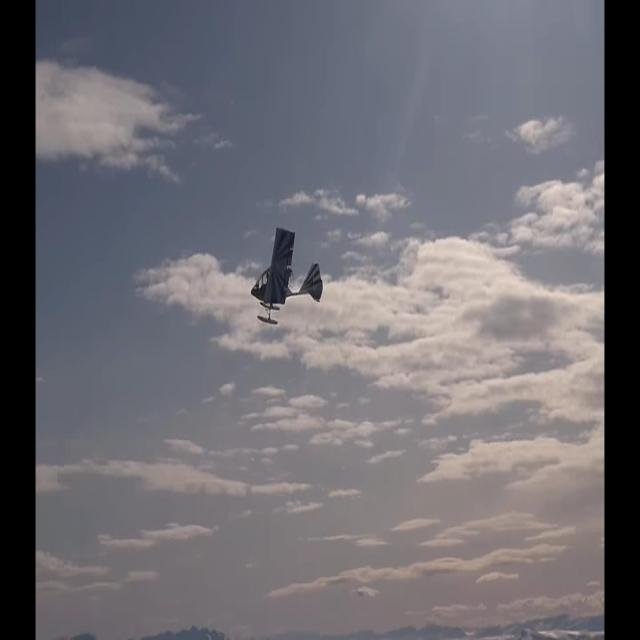iha: (286, 258, 288, 293)
